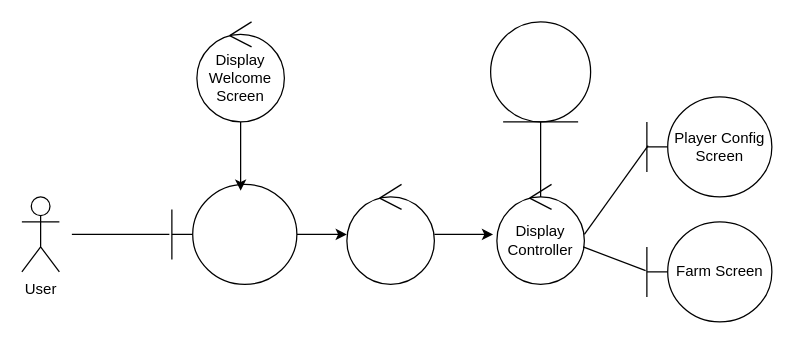
Some shapes in this 794 by 344 pixel diagram are drawn without their labels. Here are the shapes that lost their labels. From the top down, the box of each, then its label:
(489, 21, 591, 122): Player Data
(171, 183, 297, 284): Welcome Screen
(346, 183, 434, 284): Press Start
